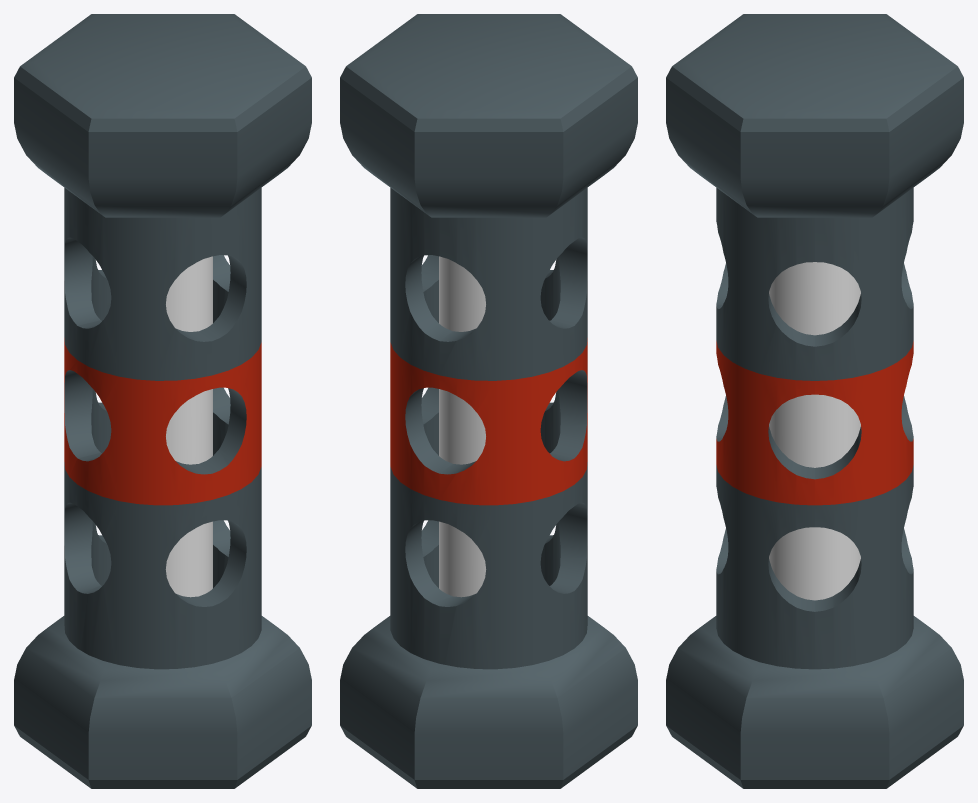
Rendered from flashbang.fbx.
3 views of the same model, side by side, from view 1: azimuth 30°, elevation 25°; view 2: azimuth 150°, elevation 25°; view 3: azimuth 270°, elevation 25° (orthographic).
Parts seen in each view (by area): view 1: Cylinder.004; view 2: Cylinder.004; view 3: Cylinder.004.
Part boxes in pixels (box(x1,y1,x2,y2)): Cylinder.004: box(14, 14, 311, 788); Cylinder.004: box(340, 14, 637, 788); Cylinder.004: box(666, 14, 963, 788).
Bounding box in the file's own units: 14.31 × 41.6 × 16.53.
Materials: 1 (1 with a texture image).
